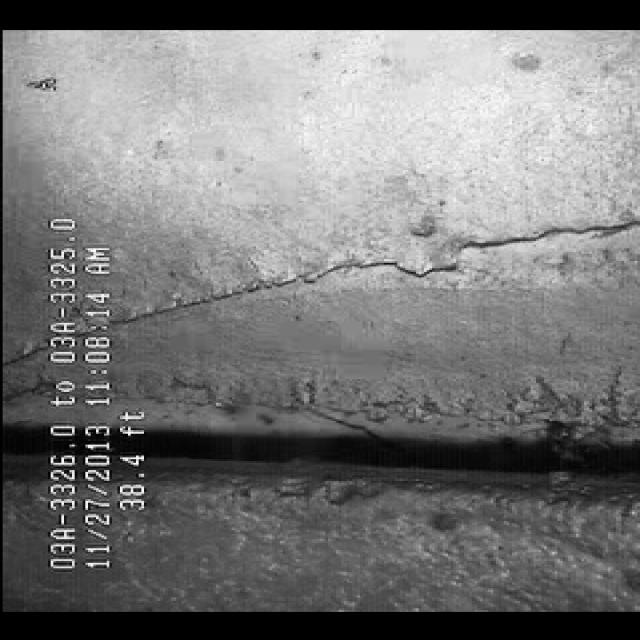Crack: (135, 202, 576, 340)
